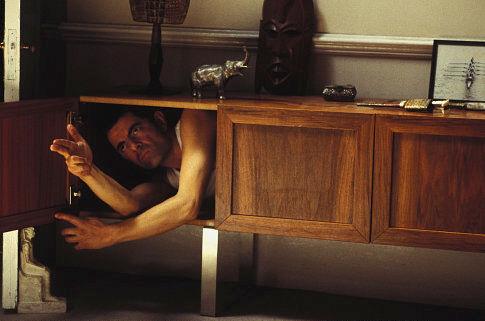41: (97, 108, 172, 174)
Male: (97, 108, 172, 174)
Vest: (146, 113, 238, 239)
